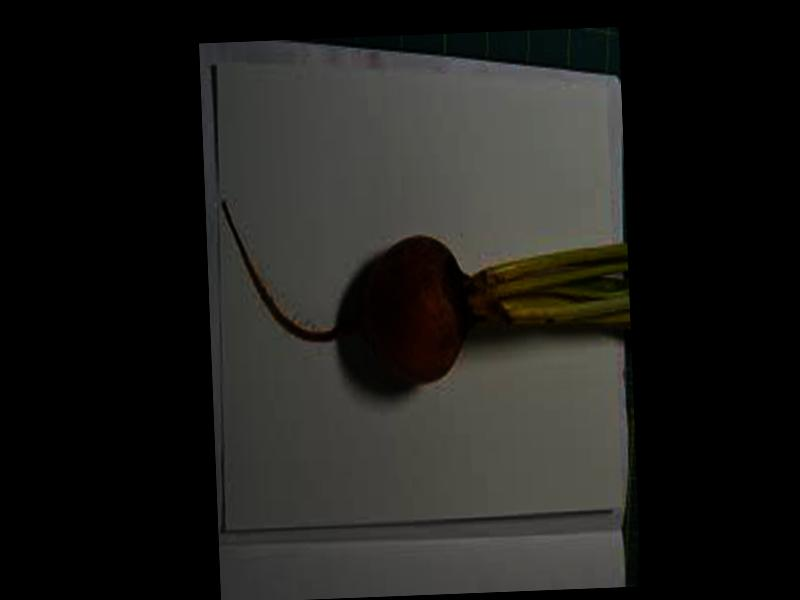Beet: (221, 187, 628, 390)
